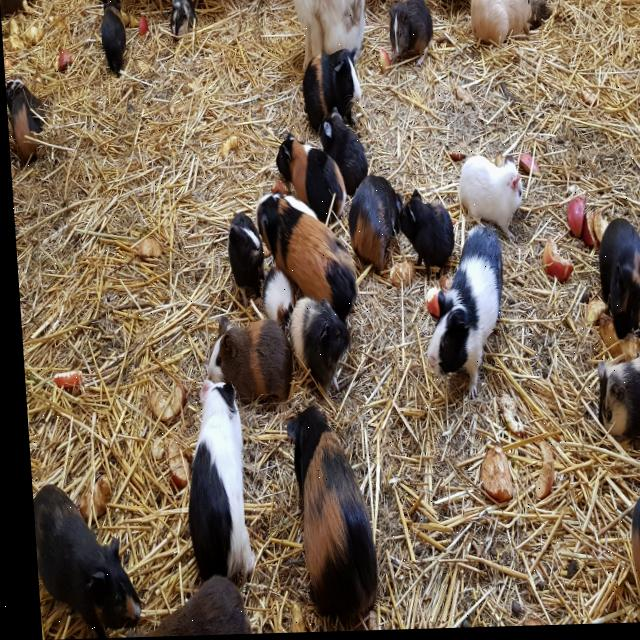guinea pig: (279, 403, 374, 628), (412, 225, 522, 410), (25, 477, 137, 639), (249, 186, 359, 331), (174, 380, 250, 580), (198, 314, 297, 409), (282, 292, 352, 399), (271, 129, 346, 228), (341, 168, 406, 279), (590, 214, 640, 346), (453, 153, 526, 243), (298, 50, 365, 136), (395, 194, 454, 286), (615, 421, 640, 626), (586, 352, 640, 446), (221, 202, 265, 312), (314, 113, 369, 200), (4, 72, 48, 169), (381, 0, 439, 73), (466, 0, 538, 50), (254, 262, 295, 331), (97, 0, 132, 75), (167, 0, 201, 47)
